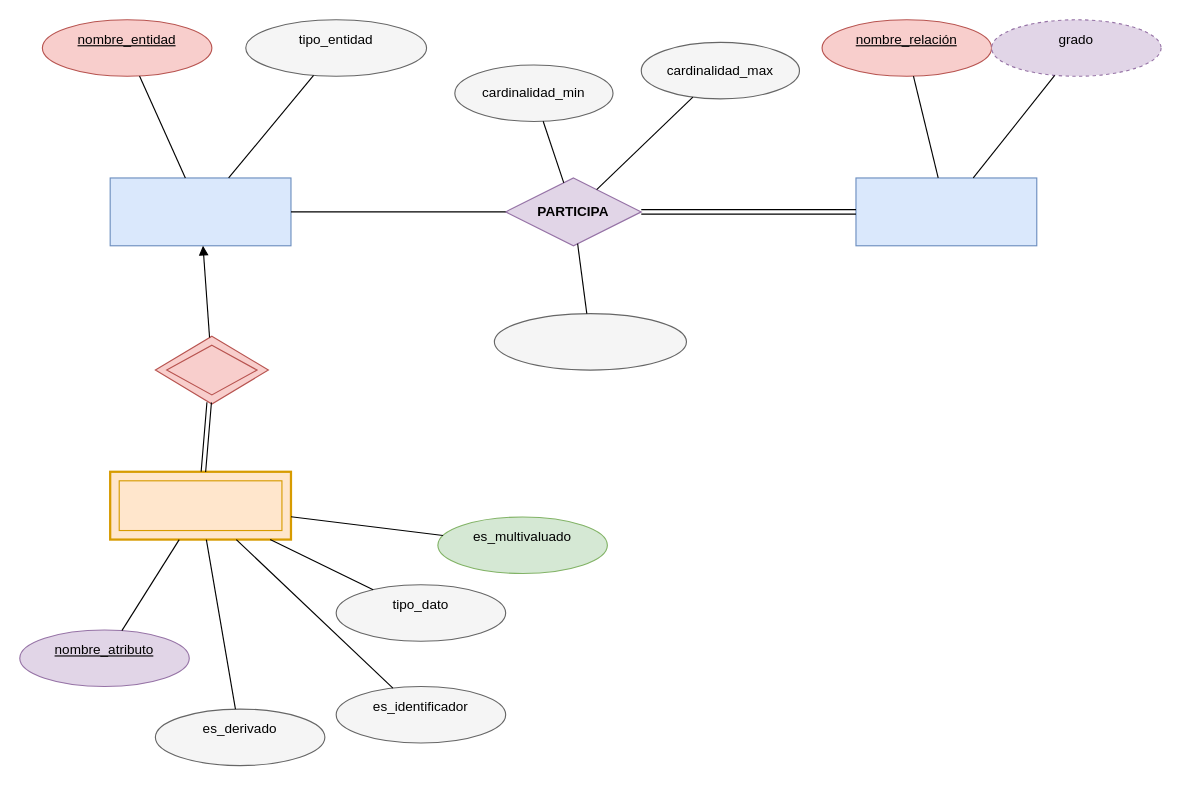
This 1181x785 diagram has some shape labels left out. The shapes that lost their labels are listed below. From the top down, each one's centre as x and y in pixels, then its label:
At point 200,211: "ENTIDAD".
At point 946,211: "RELACIÓN".
At point 589,341: "tipo_participación".
At point 211,369: "POSEE".
At point 200,505: "ATRIBUTO".
